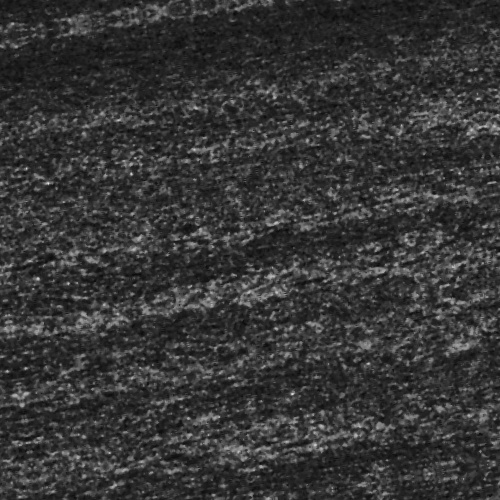object: (445, 0, 500, 4)
shadow: (393, 0, 491, 4)
